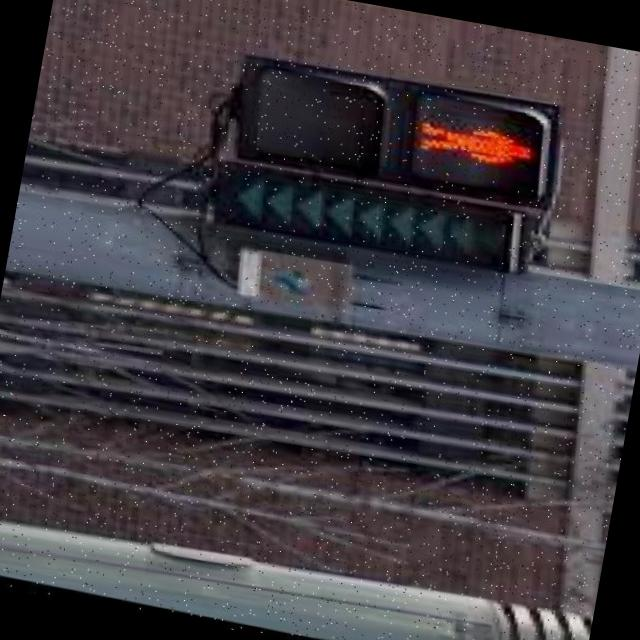red_light: (402, 96, 538, 191)
